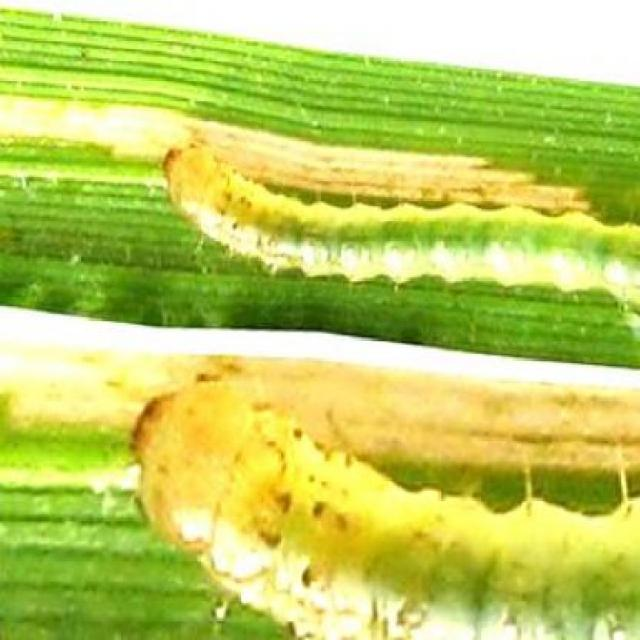leaf-folder: (123, 351, 640, 640), (155, 123, 640, 314)
